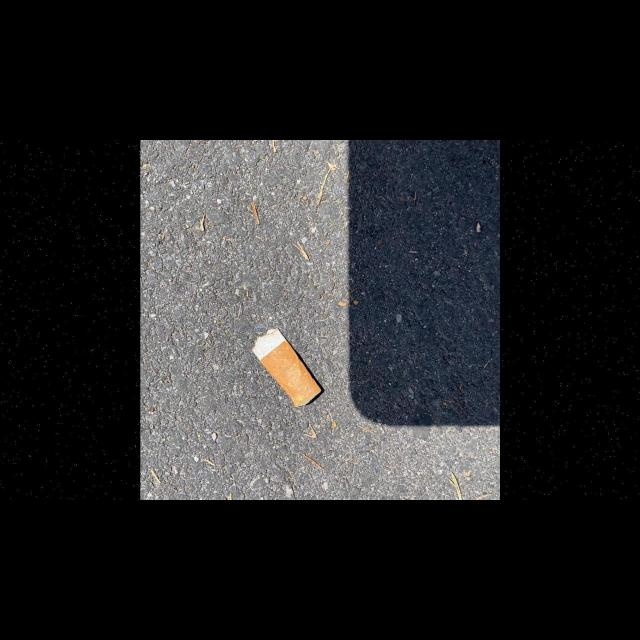cigarette: (251, 328, 321, 408)
